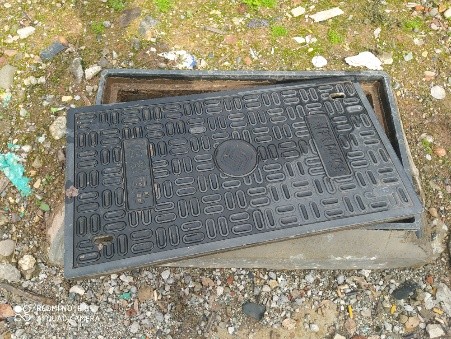uncovered: (64, 69, 421, 275)
